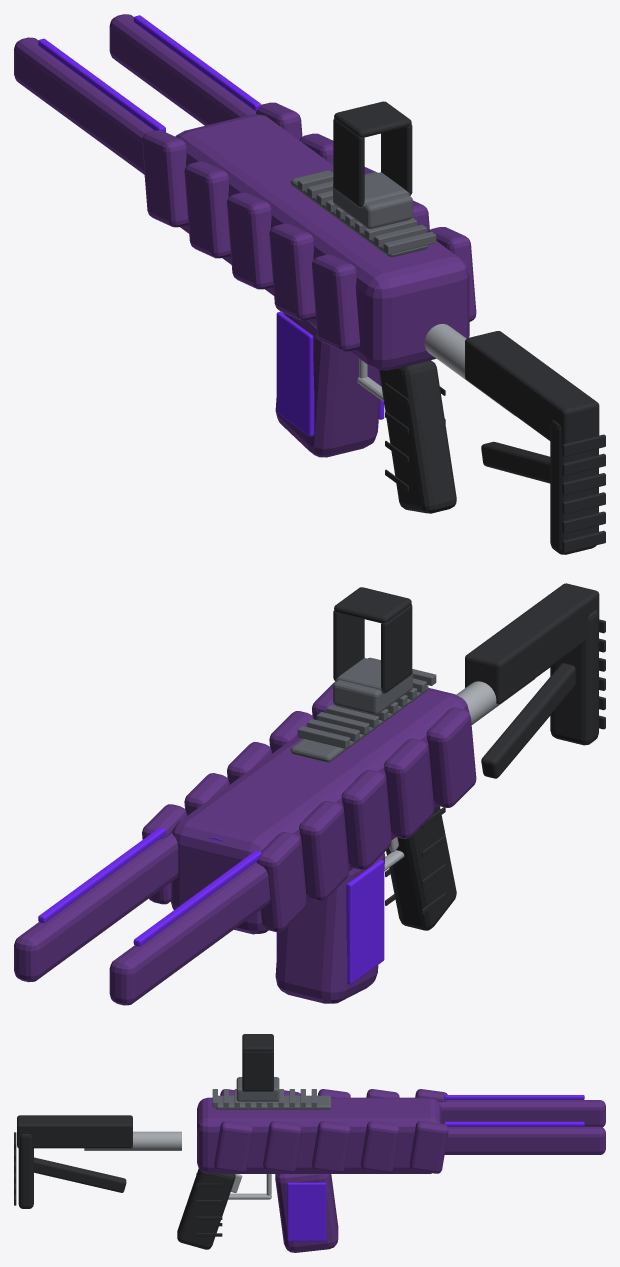
The model's file is SM_PLASMAX.fbx.
3 renders of one model, top to bottom at view 1: azimuth 30°, elevation 25°; view 2: azimuth 150°, elevation 25°; view 3: azimuth 270°, elevation 25°, orthographic. The views are drawn at different scales.
Visible parts, largest first — view 1: Plasma receiver, Stock spine.003, PistolGrip.003, PowerCell, Forward prong, Forward prong.001, Cell charge strip, Armored vanes, Armored vanes.001, Armored vanes.003, Armored vanes.004, Armored vanes.002 (+12 smaller); view 2: Plasma receiver, Forward prong.001, Forward prong, Stock spine.003, PowerCell, PistolGrip.003, Cell charge strip, Stock butt.003, Armored vanes.001, Armored vanes.003, Armored vanes.002, Armored vanes (+16 smaller); view 3: Plasma receiver, Forward prong.001, Stock spine.003, Forward prong, PistolGrip.003, Cell charge strip.001, PowerCell, Armored vanes.009, Armored vanes.008, Armored vanes.006, Armored vanes.007, Armored vanes.005 (+9 smaller).
Boxes of the visible parts, x1,y1,x2,y2 form: Plasma receiver: [175, 114, 469, 370]; Stock spine.003: [465, 331, 599, 449]; PistolGrip.003: [379, 360, 456, 513]; PowerCell: [275, 312, 381, 457]; Forward prong: [14, 37, 154, 174]; Forward prong.001: [109, 14, 256, 125]; Cell charge strip: [276, 311, 314, 436]; Armored vanes: [312, 254, 359, 351]; Armored vanes.001: [269, 223, 315, 320]; Armored vanes.003: [184, 161, 230, 258]; Armored vanes.004: [142, 130, 188, 227]; Armored vanes.002: [227, 192, 273, 289]; Plasma receiver: [170, 688, 469, 934]; Forward prong.001: [14, 833, 178, 982]; Forward prong: [109, 862, 270, 1005]; Stock spine.003: [465, 583, 599, 704]; PowerCell: [275, 852, 385, 1003]; PistolGrip.003: [386, 806, 456, 930]; Cell charge strip: [346, 859, 384, 984]; Stock butt.003: [550, 610, 598, 745]; Armored vanes.001: [384, 738, 433, 838]; Armored vanes.003: [299, 801, 348, 901]; Armored vanes.002: [341, 770, 391, 869]; Armored vanes: [426, 707, 476, 807]; Plasma receiver: [197, 1097, 441, 1173]; Forward prong.001: [444, 1126, 605, 1154]; Stock spine.003: [17, 1115, 132, 1148]; Forward prong: [439, 1100, 605, 1127]; PistolGrip.003: [177, 1168, 235, 1249]; Cell charge strip.001: [287, 1182, 326, 1241]; PowerCell: [275, 1174, 338, 1252]; Armored vanes.009: [409, 1121, 448, 1173]; Armored vanes.008: [360, 1121, 399, 1173]; Armored vanes.006: [263, 1121, 301, 1173]; Armored vanes.007: [312, 1121, 350, 1173]; Armored vanes.005: [214, 1121, 252, 1173].
Size of the model in its own units: 14.9 by 37.28 by 97.
